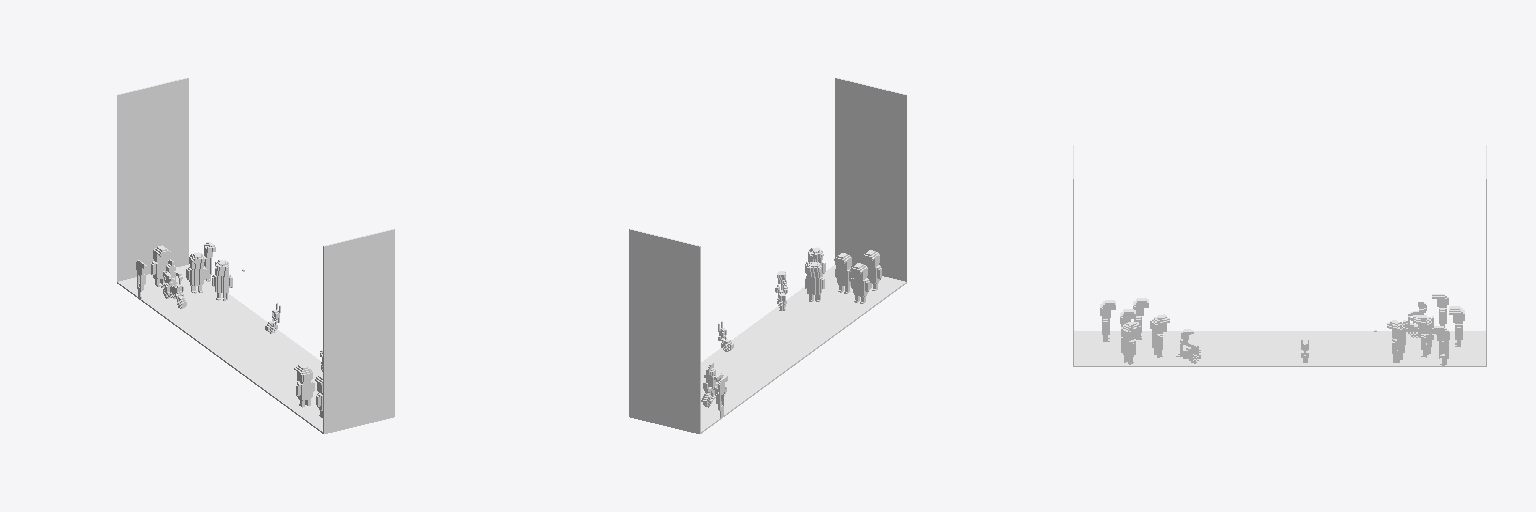
File: stage3_d.obj
3 renders of one model, left to right at view 1: azimuth 30°, elevation 25°; view 2: azimuth 150°, elevation 25°; view 3: azimuth 270°, elevation 25°, orthographic.
Parts seen in each view (by area): view 1: object 1; view 2: object 1; view 3: object 1.
Part boxes in pixels (x1,y1,x2,y2): object 1: (117, 78, 394, 433); object 1: (629, 78, 906, 433); object 1: (1073, 145, 1486, 366).
Size of the model in its own units: 5.1 by 12.8 by 25.6.